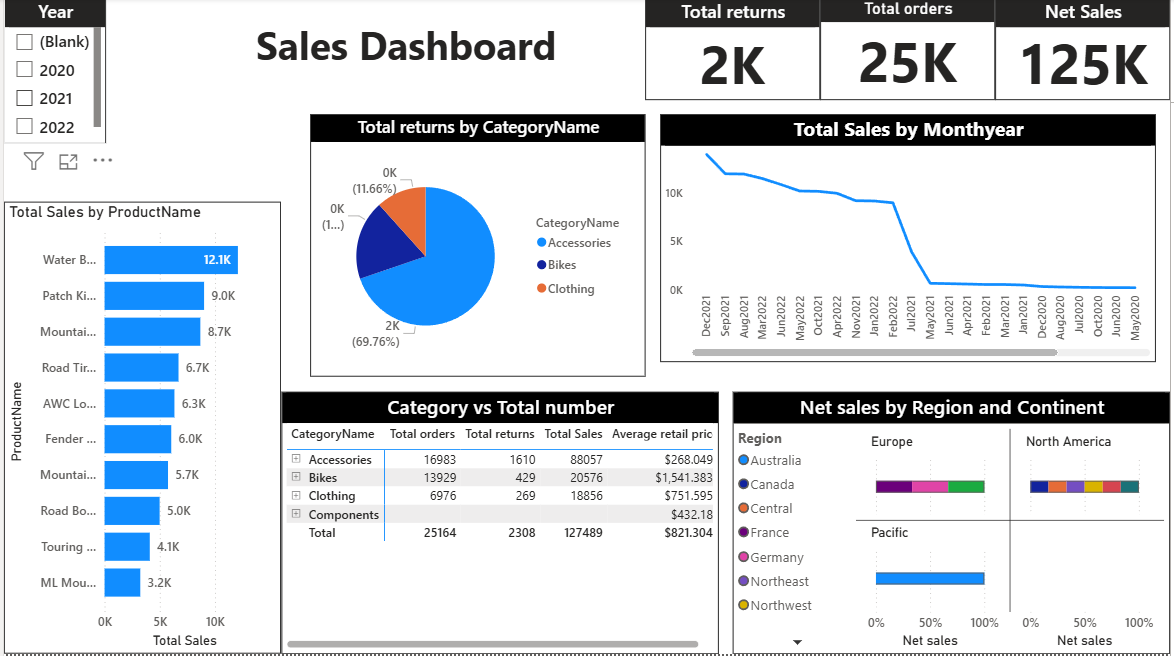

The dashboard page shown, as its layout file describes it:
{"tool":"powerbi","page":{"name":"Page 1","canvas":[1280,720],"ordinal":0},"visuals":[{"type":"card","title":"Total returns","fields":{"Values":["Measure table.Total returns"]},"box":[704,0,192,112],"z":0},{"type":"card","title":"Total orders","fields":{"Values":["Measure table.Total orders"]},"box":[896,0,192,112],"z":1000},{"type":"lineChart","fields":{"Y":["Measure table.Total Sales"],"Category":["Sales Data.Monthyear"]},"box":[720,128,544,272],"z":2000},{"type":"hundredPercentStackedBarChart","fields":{"Y":["Measure table.Net sales"],"Series":["Territory Lookup.Region"],"Rows":["Territory Lookup.Continent"]},"box":[800,432,480,288],"z":3000},{"type":"card","title":"Net Sales","fields":{"Values":["Measure table.Net sales"]},"box":[1088,0,192,112],"z":4000},{"type":"slicer","title":"Year","fields":{"Values":["Sales Data.Year"]},"box":[0,0,112,160],"z":5000},{"type":"barChart","fields":{"Category":["Product Lookup.ProductName"],"Y":["Measure table.Total Sales"]},"box":[0,224,304,496],"z":6000},{"type":"pieChart","fields":{"Category":["Product Categories Lookup.CategoryName"],"Y":["Measure table.Total returns"]},"box":[336,128,368,288],"z":7000},{"type":"pivotTable","title":"Category vs Total number","fields":{"Rows":["Product Categories Lookup.CategoryName","Product Categories Lookup.ProductCategoryKey"],"Values":["Measure table.Total orders","Measure table.Total returns","Measure table.Total Sales","Measure table.Average retail price"]},"box":[304,432,480,288],"z":8000},{"type":"textbox","box":[272,16,400,96],"z":9000}]}

Visuals, with their boxes in screenshot pixels (x1, y1, x2, y2), scaled from the page's 1280x720 canvas onto the 1174x656 screenshot:
"Total returns" card: locate(646, 0, 822, 102)
"Total orders" card: locate(822, 0, 998, 102)
lineChart - Measure table.Total Sales x Sales Data.Monthyear: locate(660, 117, 1159, 364)
hundredPercentStackedBarChart - Measure table.Net sales x Territory Lookup.Region: locate(734, 394, 1173, 655)
"Net Sales" card: locate(998, 0, 1173, 102)
"Year" slicer: locate(0, 0, 103, 146)
barChart - Product Lookup.ProductName x Measure table.Total Sales: locate(0, 204, 279, 655)
pieChart - Product Categories Lookup.CategoryName x Measure table.Total returns: locate(308, 117, 646, 379)
"Category vs Total number" pivotTable: locate(279, 394, 719, 655)
textbox: locate(249, 15, 616, 102)
